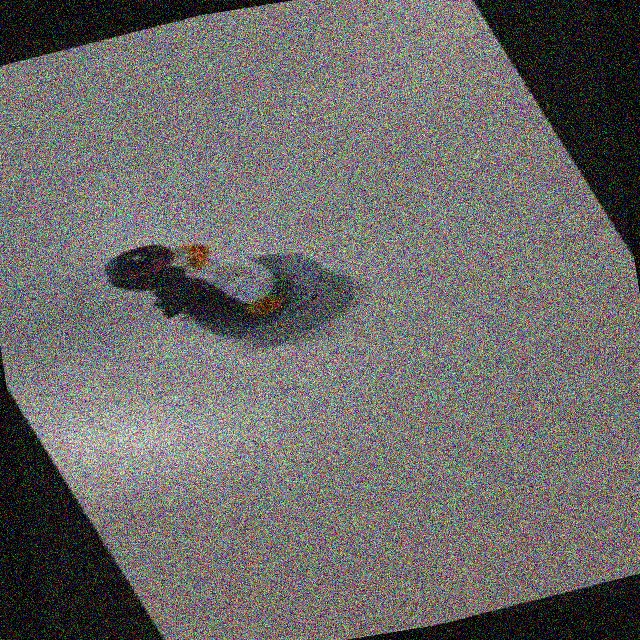Penguin: (84, 196, 379, 372)
